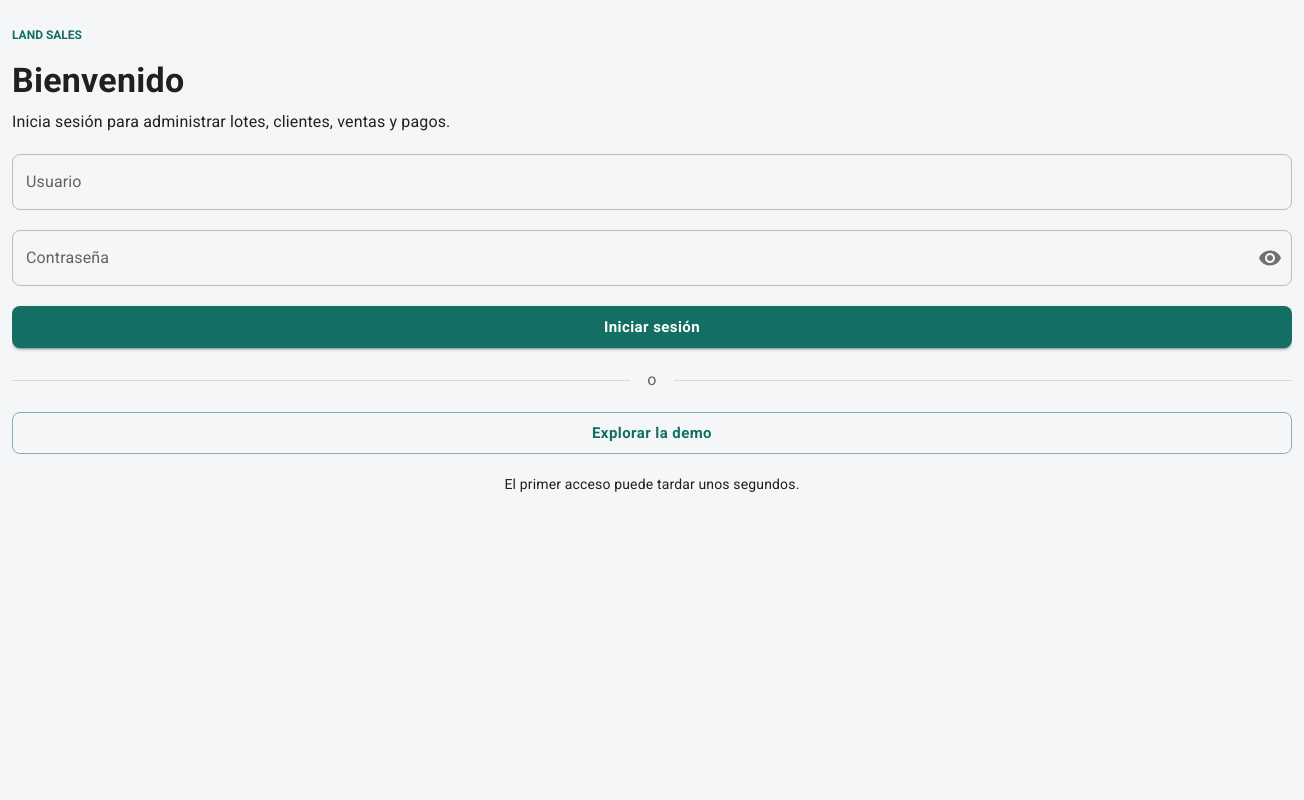
Test: LoginForm › shows a friendly demo error when demo authentication fails
Click the button "Explorar la demo" at (652, 433), box [12,412,1292,454]
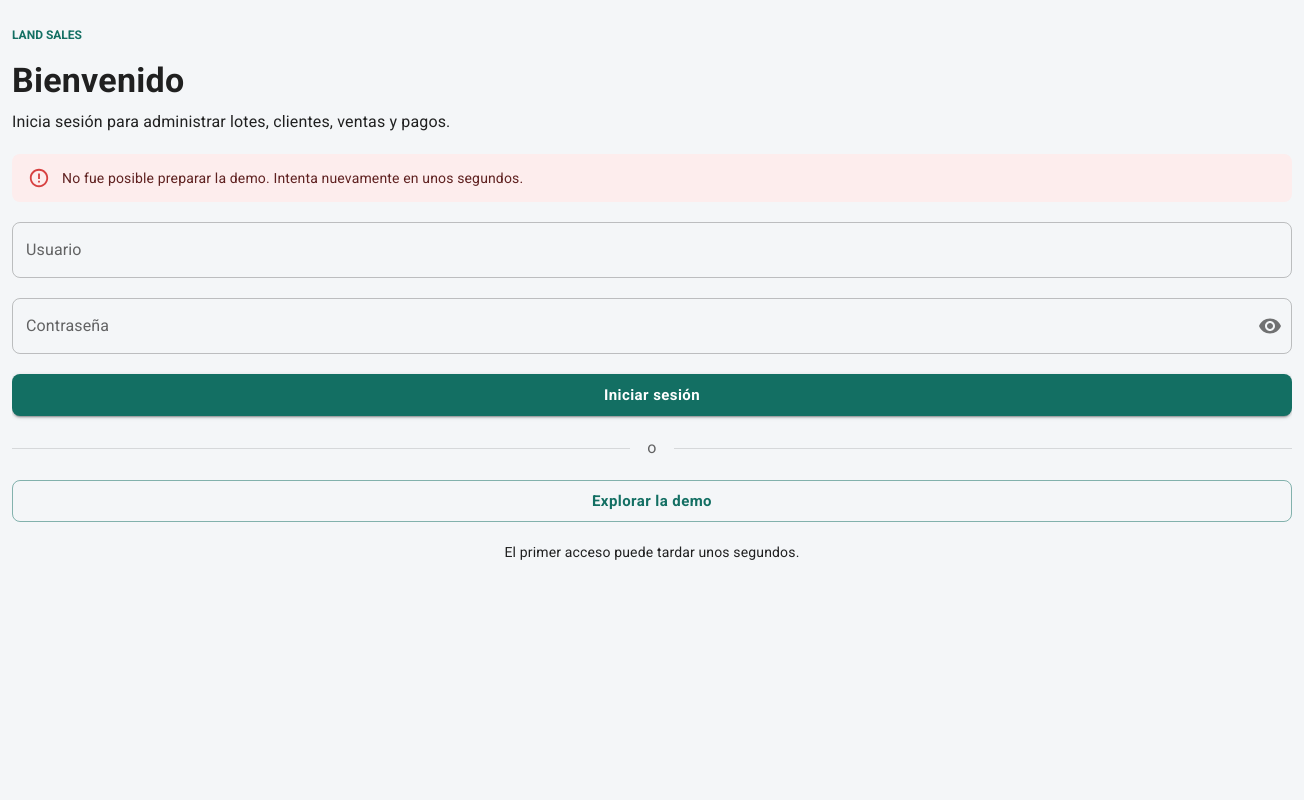
Now the text "No fue posible preparar la demo. Intenta nuevamente en unos segundos." is shown, box [62,170,523,186]
